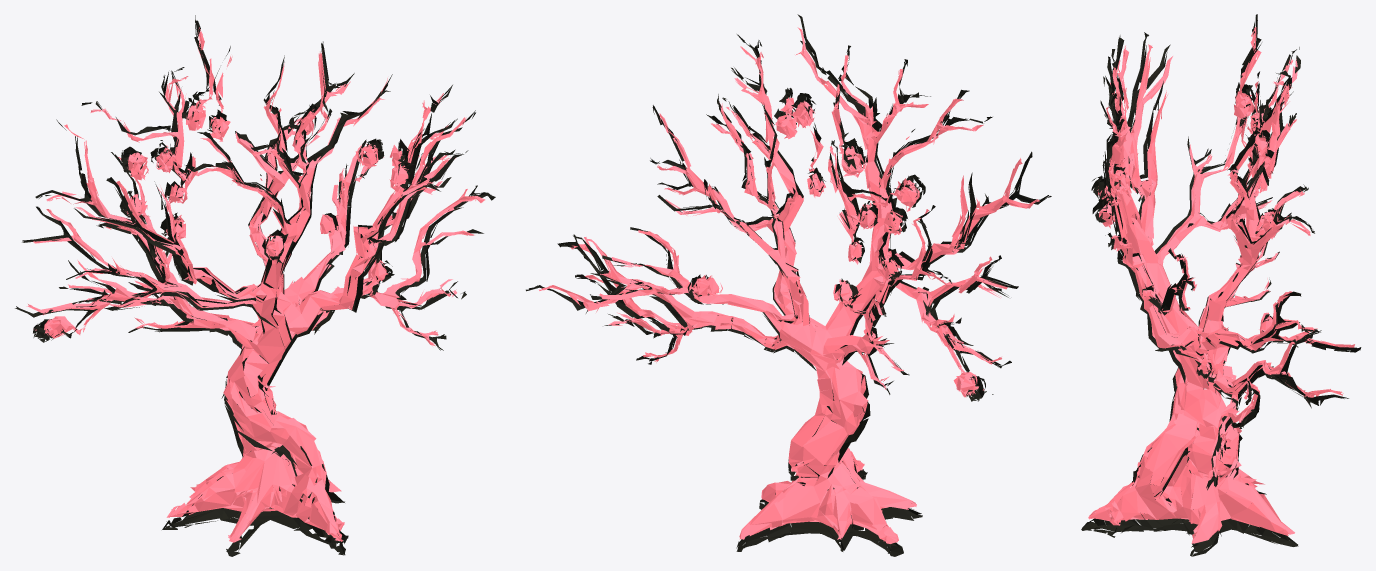
The model's file is df_v2_lantern_tree_b_a.glb.
The picture shows the model from 3 angles, left to right: view 1: azimuth 30°, elevation 25°; view 2: azimuth 150°, elevation 25°; view 3: azimuth 270°, elevation 25°; orthographic projection. The views are drawn at different scales.
Parts seen in each view (by area): view 1: lantern_tree_b_mesh_01, lantern_tree_b_mesh_01_ink_outline; view 2: lantern_tree_b_mesh_01, lantern_tree_b_mesh_01_ink_outline; view 3: lantern_tree_b_mesh_01, lantern_tree_b_mesh_01_ink_outline.
Boxes of the visible parts, x1,y1,x2,y2 form: lantern_tree_b_mesh_01: [26, 27, 485, 542]; lantern_tree_b_mesh_01_ink_outline: [15, 15, 495, 556]; lantern_tree_b_mesh_01: [539, 27, 1039, 543]; lantern_tree_b_mesh_01_ink_outline: [526, 14, 1051, 556]; lantern_tree_b_mesh_01: [1088, 27, 1354, 543]; lantern_tree_b_mesh_01_ink_outline: [1081, 14, 1361, 556].
Size of the model in its own units: 2.2 by 2.2 by 1.14.
